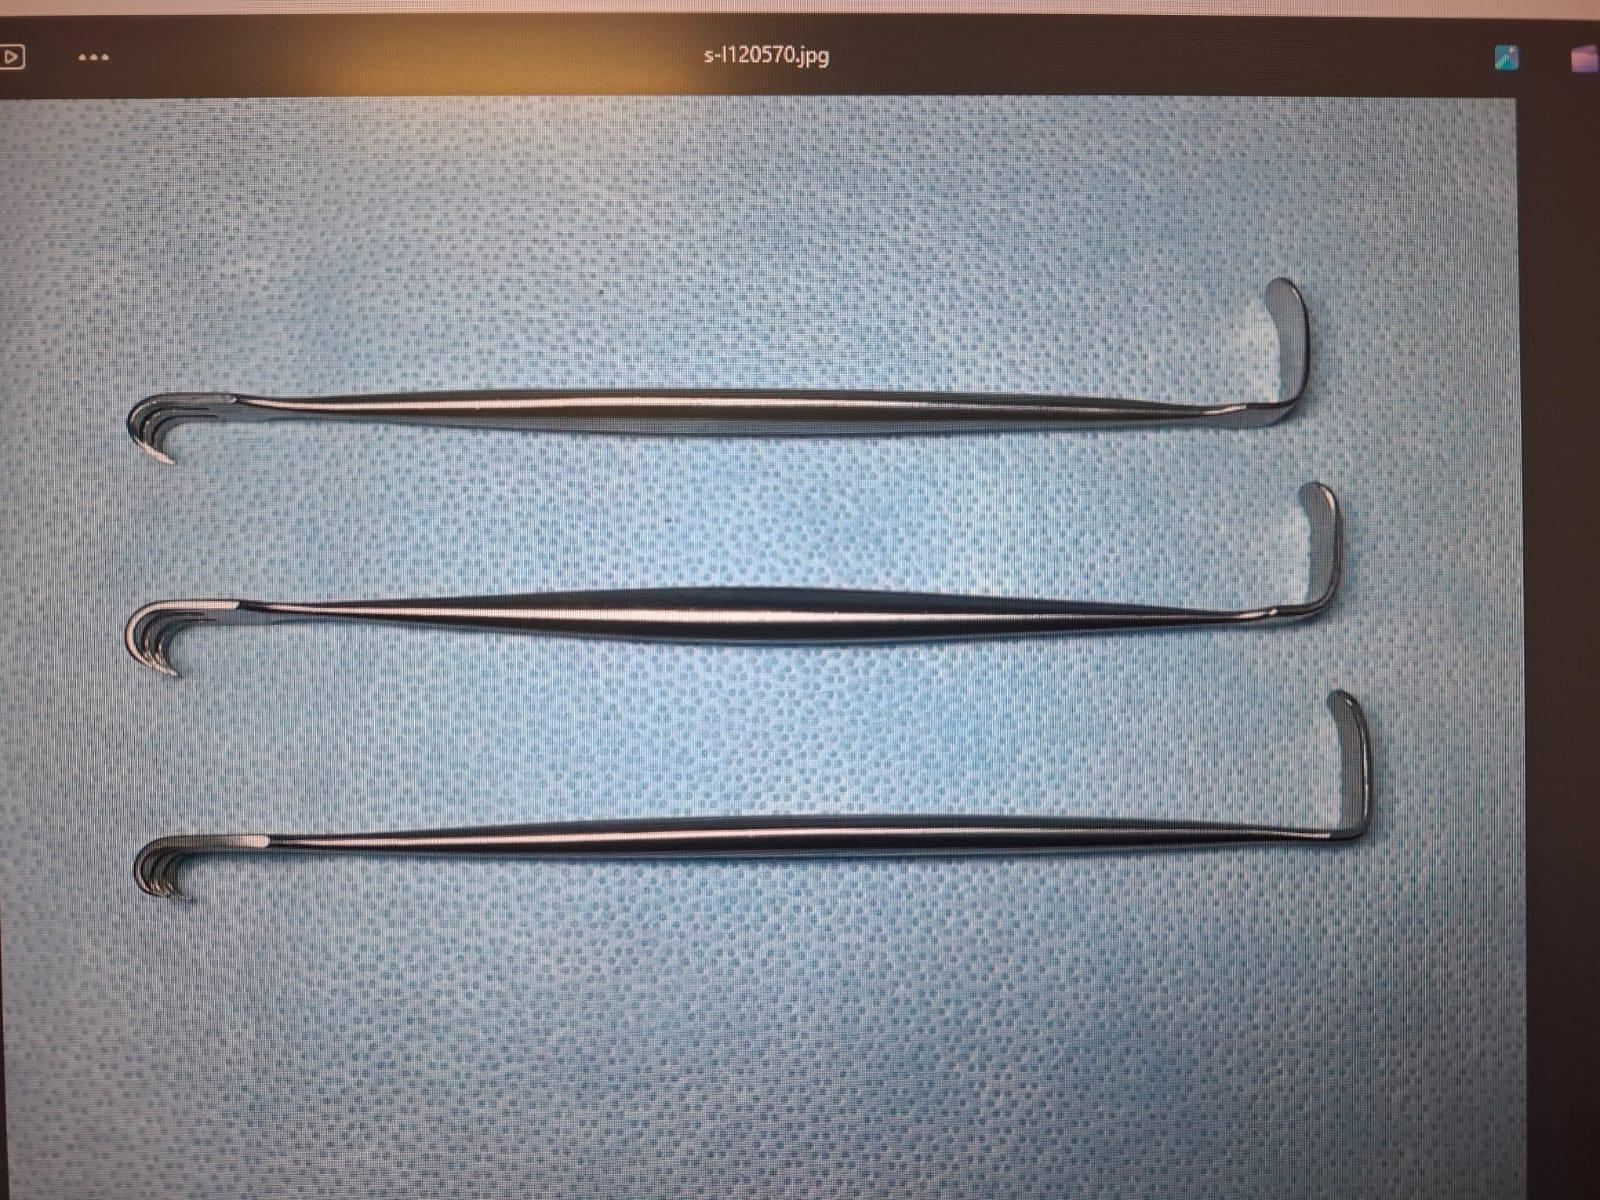Senn Retractor: (112, 686, 1388, 918), (105, 471, 1358, 705), (110, 263, 1322, 500)
